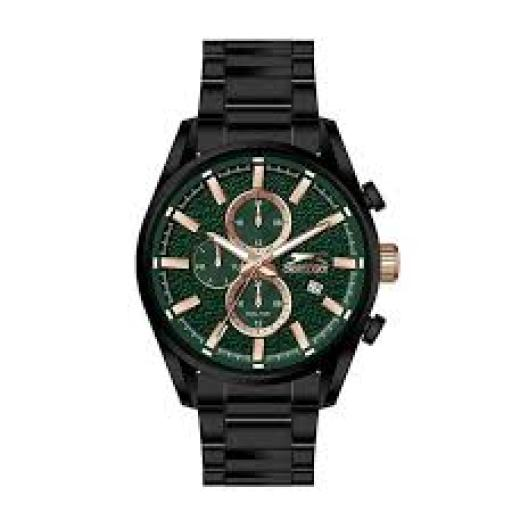KolSaati: (106, 20, 425, 496)
